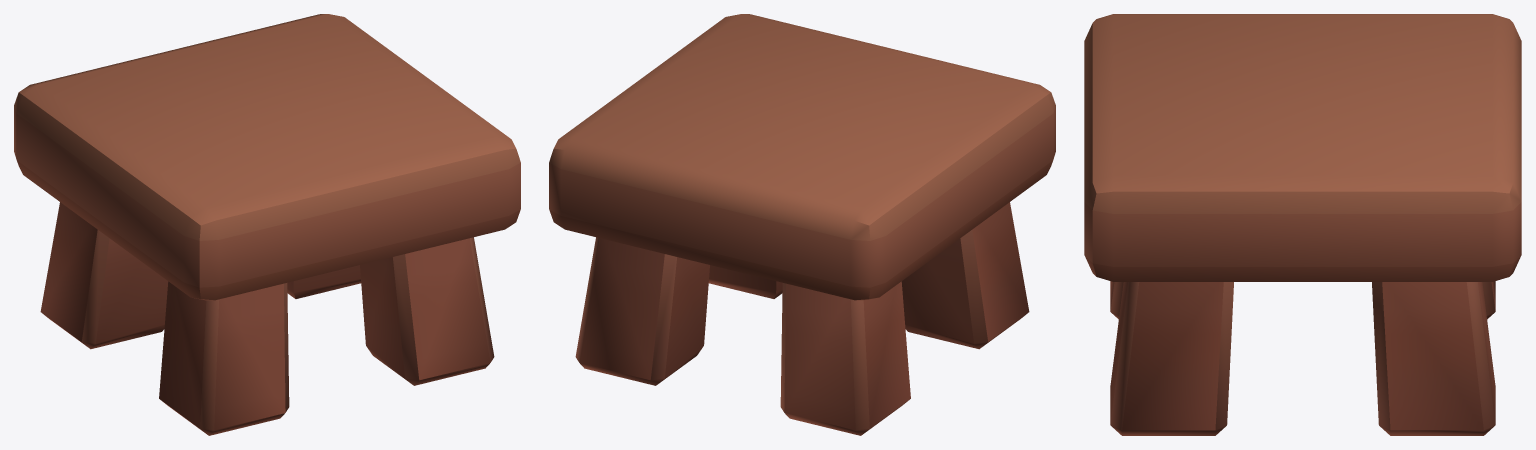
File: stool_wood.glb
3 renders of one model, left to right at view 1: azimuth 30°, elevation 25°; view 2: azimuth 150°, elevation 25°; view 3: azimuth 270°, elevation 25°, orthographic. The views are drawn at different scales.
Visible parts, largest first — view 1: chair_stool_wood; view 2: chair_stool_wood; view 3: chair_stool_wood.
Part boxes in pixels (box(x1,y1,x2,y2)): chair_stool_wood: box(14, 14, 520, 435); chair_stool_wood: box(549, 14, 1055, 435); chair_stool_wood: box(1084, 14, 1521, 435).
Bounding box in the file's own units: 0.75 × 0.5 × 0.75.
1 material, 1 textured.
